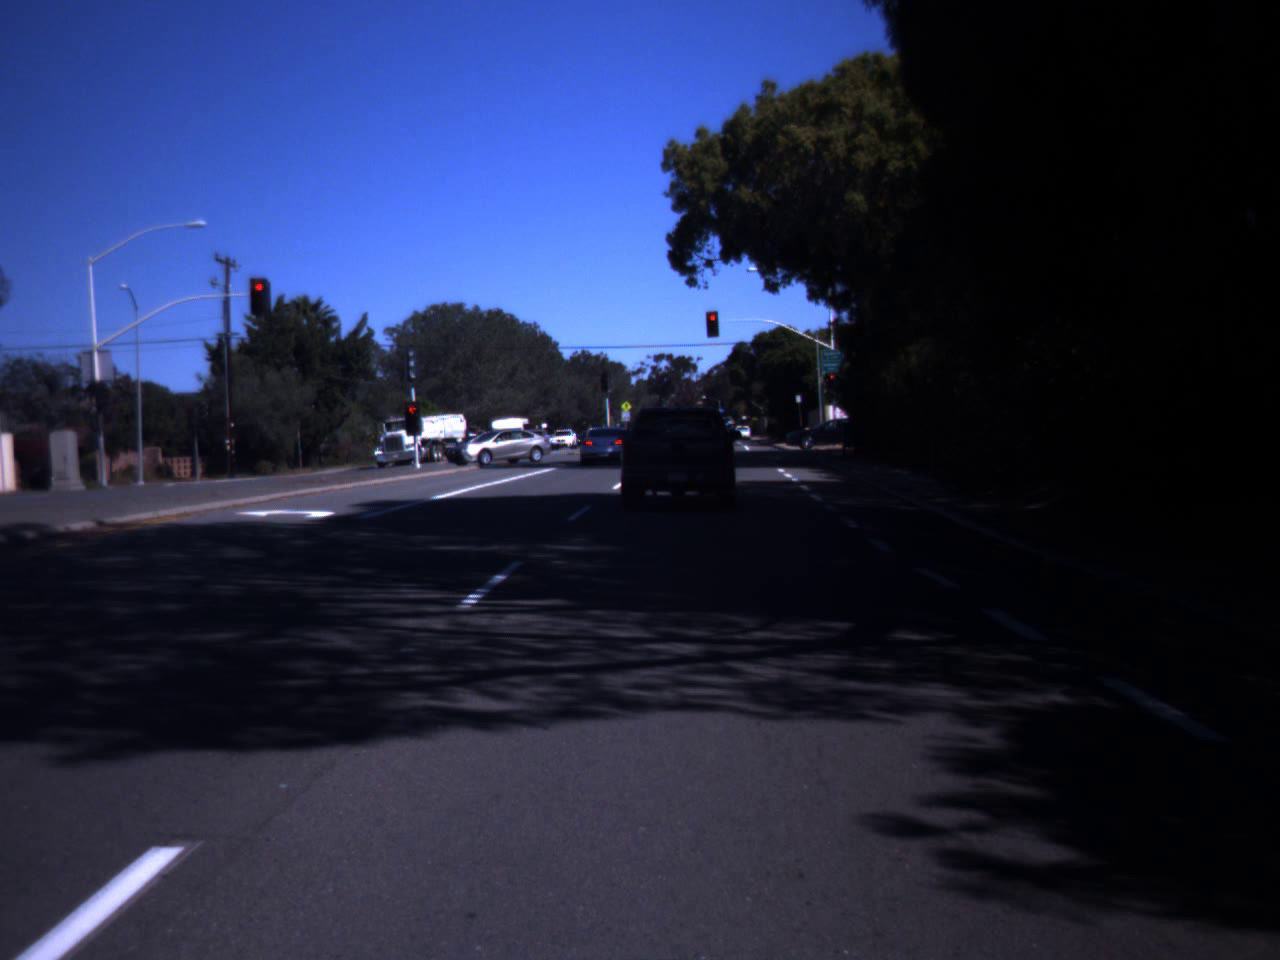stop: (250, 281, 268, 308), (705, 312, 720, 334)
